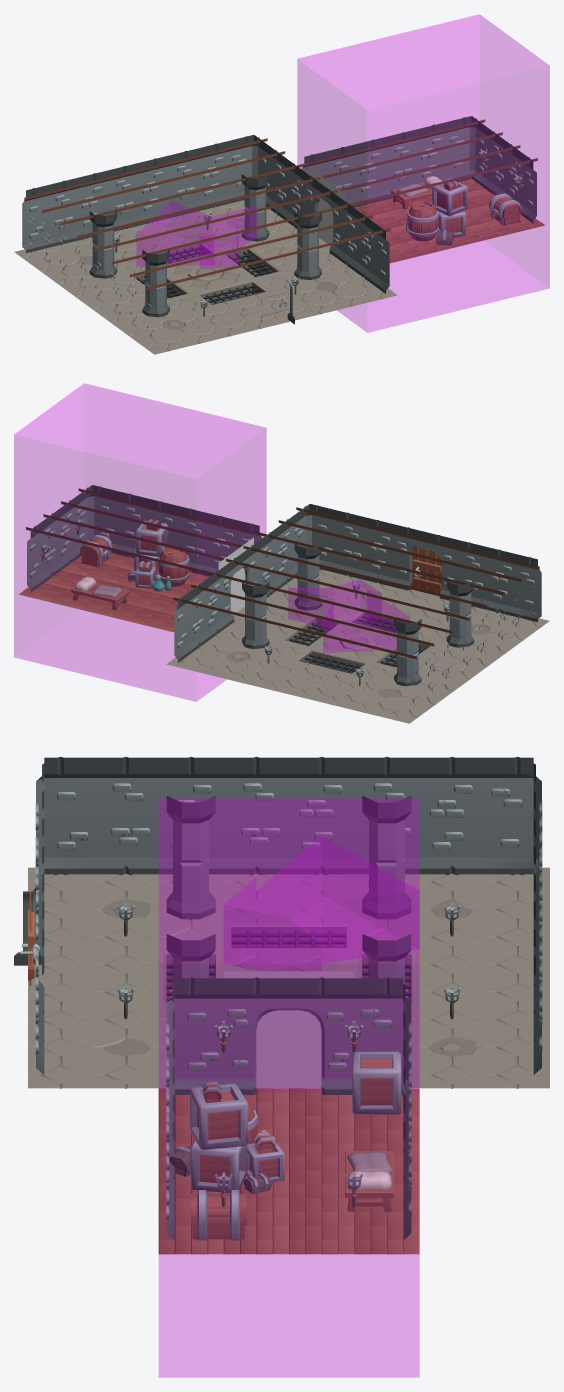
File: level40.glb
3 views of the same model, one above another, from view 1: azimuth 30°, elevation 25°; view 2: azimuth 150°, elevation 25°; view 3: azimuth 270°, elevation 25° (orthographic). The views are drawn at different scales.
Visible parts, largest first — view 1: arx_zone__inroom, floor_tile_extralarge_grates, arx_zone__center_ish_part, wall.003, wall.002, wall.001, wall.011, box_stacked, wall.008, wall_corner.008, wall.012, wall.010 (+51 smaller); view 2: arx_zone__inroom, floor_tile_extralarge_grates, arx_zone__center_ish_part, wall.007, wall_doorway.003, wall.009, box_stacked, wall.013, wall.010, wall.014, wall.015, wall_corner.007 (+52 smaller); view 3: arx_zone__inroom, arx_zone__center_ish_part, wall.005, wall.004, wall.006, floor_tile_extralarge_grates, wall_doorway.004, box_stacked, floor_wood_large.006, wall_corner.001, wall_corner.002, wall_corner.006 (+55 smaller).
Boxes of the visible parts, x1,y1,x2,y2 form: arx_zone__inroom: (297,14,549,332); floor_tile_extralarge_grates: (114,235,301,314); arx_zone__center_ish_part: (136,201,257,268); wall.003: (168,140,231,217); wall.002: (107,155,170,231); wall.001: (46,170,109,247); wall.011: (386,121,448,199); box_stacked: (406,178,467,245); wall.008: (325,136,387,207); wall_corner.008: (446,116,488,188); wall.012: (337,196,376,283); wall.010: (267,144,306,228); arx_zone__inroom: (14,383,266,701); floor_tile_extralarge_grates: (262,604,449,683); arx_zone__center_ish_part: (288,579,409,652); wall.007: (332,509,395,586); wall_doorway.003: (393,524,456,600); wall.009: (454,539,517,616); box_stacked: (127,519,189,591); wall.013: (176,505,238,576); wall.010: (187,565,226,652); wall.014: (115,490,177,557); wall.015: (40,495,78,582); wall_corner.007: (75,485,117,557); arx_zone__inroom: (159,798,419,1377); arx_zone__center_ish_part: (224,836,419,970); wall.005: (223,756,354,875); wall.004: (93,757,223,875); wall.006: (354,757,484,875); floor_tile_extralarge_grates: (158,922,419,1032); wall_doorway.004: (223,977,354,1095); box_stacked: (166,1082,284,1194); floor_wood_large.006: (289,1198,419,1254); wall_corner.001: (484,756,542,886); wall_corner.002: (35,756,93,886); wall_corner.006: (166,977,223,1107).
Size of the model in its own units: 28.31 by 14 by 16.43.
19 materials, 17 textured.
